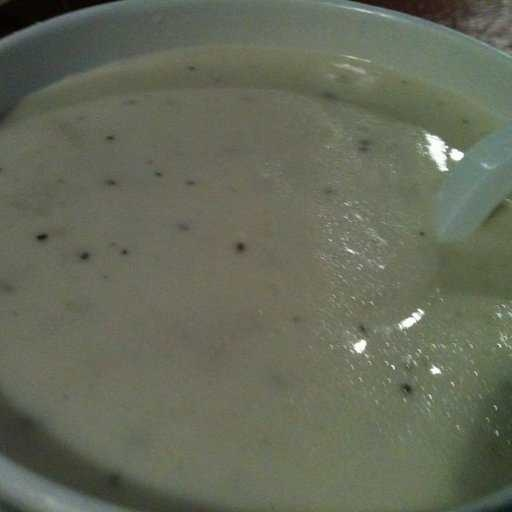soup: (8, 57, 461, 506)
